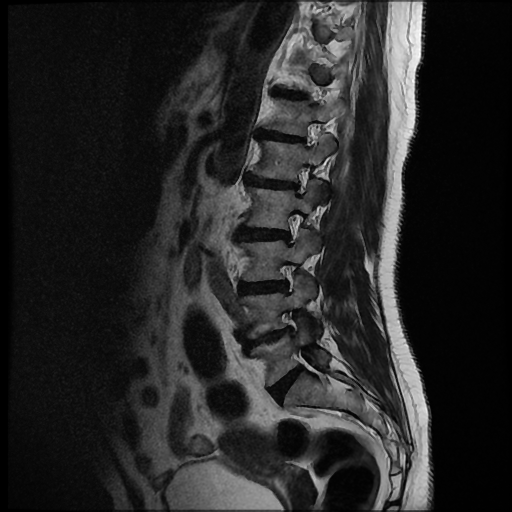LFS0: (270, 250, 305, 298), (275, 202, 309, 248), (285, 159, 320, 202)
LFS2: (270, 302, 306, 342)
